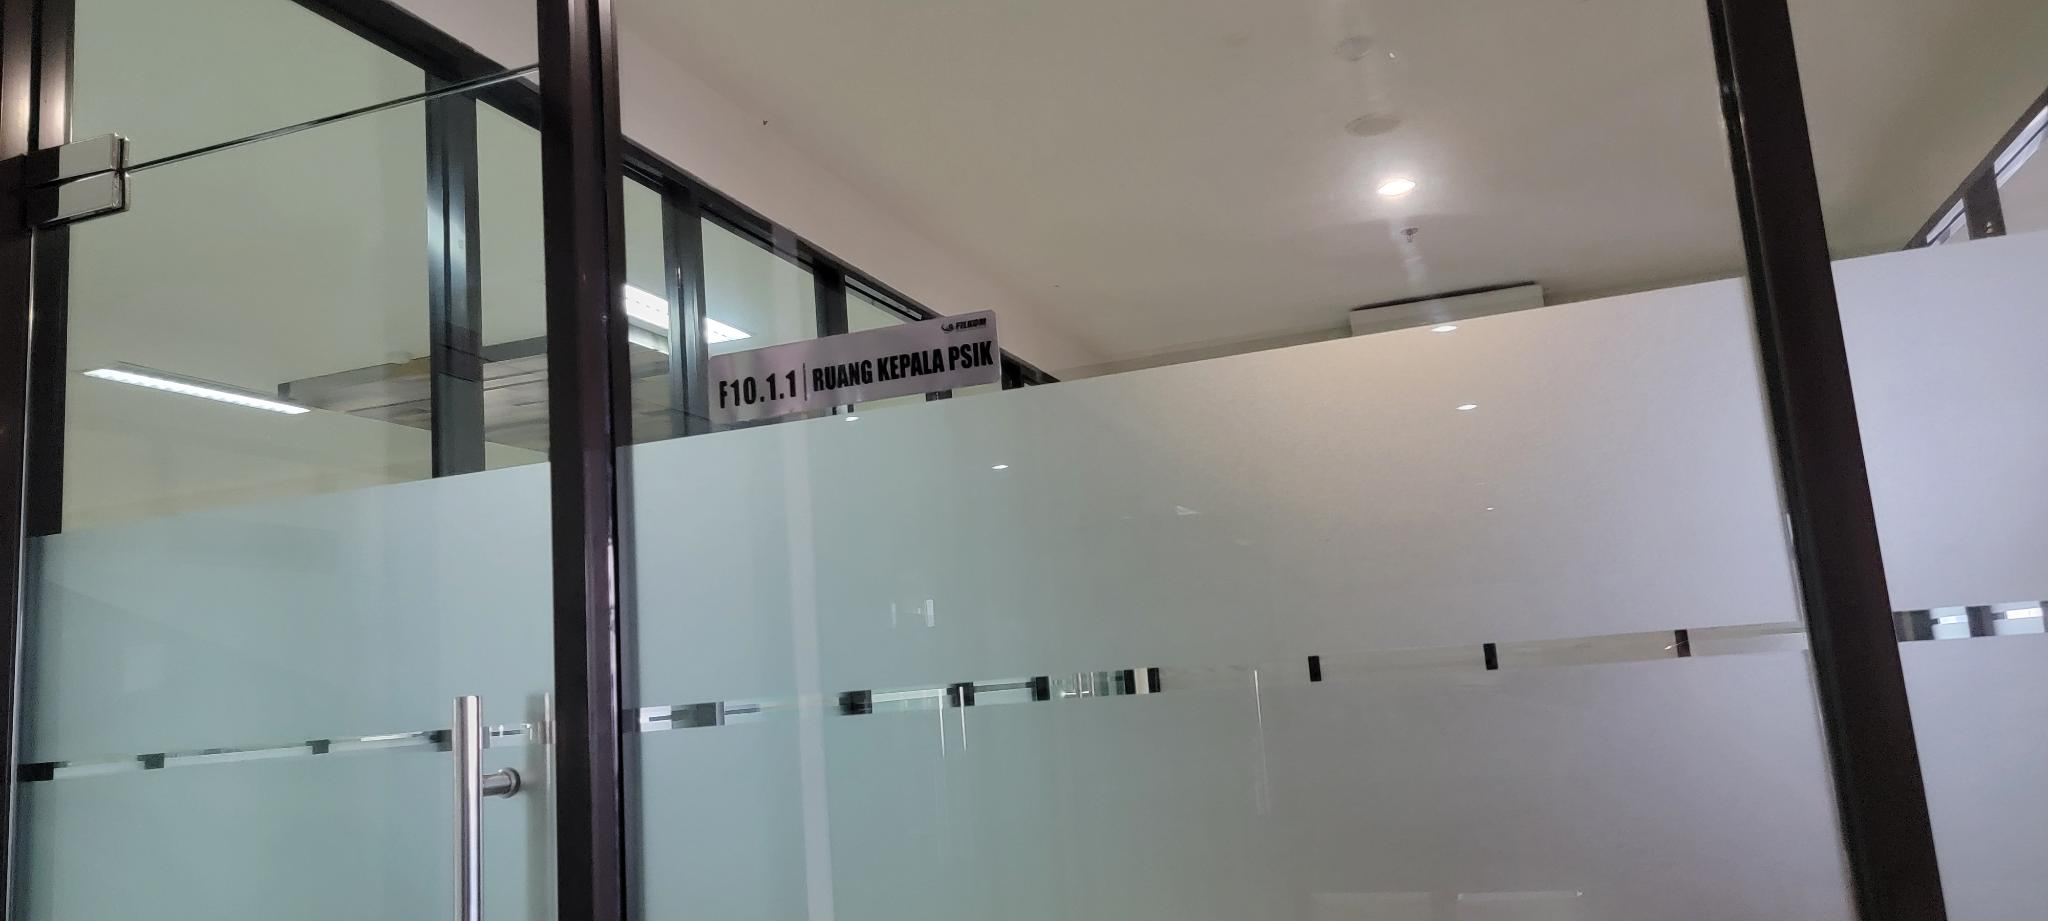plate: (705, 308, 1003, 428)
